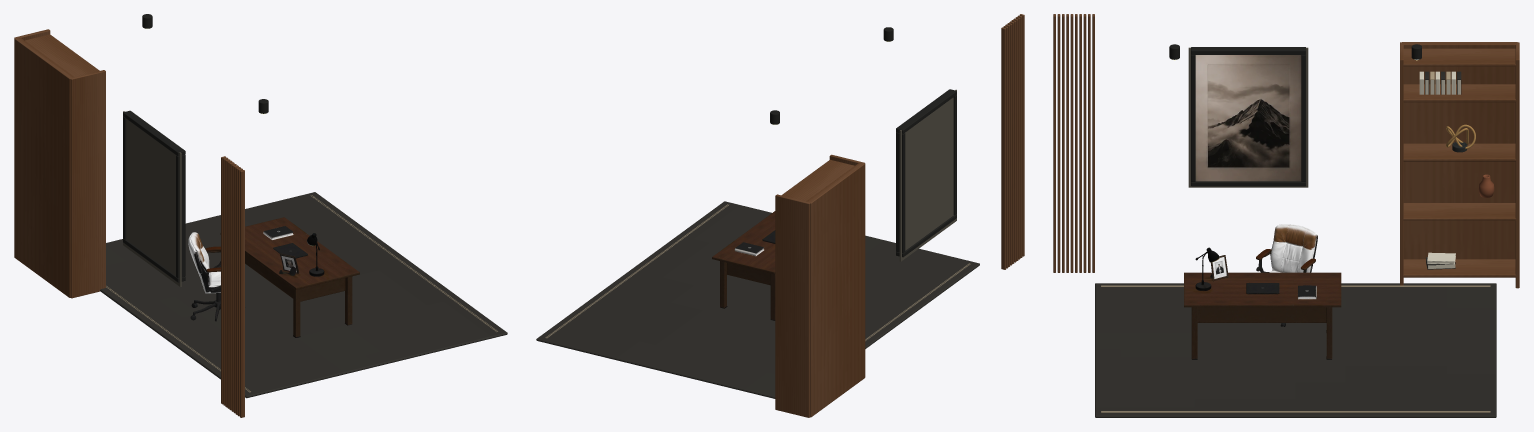
File: room-4.glb
The picture shows the model from 3 angles, left to right: view 1: azimuth 30°, elevation 25°; view 2: azimuth 150°, elevation 25°; view 3: azimuth 270°, elevation 25°; orthographic projection. The views are drawn at different scales.
Parts seen in each view (by area): view 1: STATIC_ROOM_05_STUDY_PBR_Woven_charcoal, STATIC_ROOM_05_STUDY_PBR_American_Walnut, STATIC_ROOM_05_STUDY_MESHY_PBR_Workplace, FRAME_05_STUDY_SHADOW, STATIC_ROOM_05_STUDY_PBR_Blackened_Steel, STATIC_ROOM_05_STUDY_PBR_Woven_oatmeal; view 2: STATIC_ROOM_05_STUDY_PBR_Woven_charcoal, STATIC_ROOM_05_STUDY_PBR_American_Walnut, FRAME_05_STUDY_SHADOW, STATIC_ROOM_05_STUDY_MESHY_PBR_Workplace, STATIC_ROOM_05_STUDY_PBR_Blackened_Steel, STATIC_ROOM_05_STUDY_PBR_Woven_oatmeal; view 3: STATIC_ROOM_05_STUDY_PBR_Woven_charcoal, STATIC_ROOM_05_STUDY_PBR_American_Walnut, ART_05_STUDY, STATIC_ROOM_05_STUDY_MESHY_PBR_Workplace, STATIC_ROOM_05_STUDY_PBR_Blackened_Steel, STATIC_ROOM_05_STUDY_PBR_Woven_oatmeal, FRAME_05_STUDY_SHADOW, STATIC_ROOM_05_STUDY_PBR_Warm_Paper, STATIC_ROOM_05_STUDY_PBR_Woven_ivory.
Part boxes in pixels (x1=…): STATIC_ROOM_05_STUDY_PBR_Woven_charcoal: x1=100, y1=192, x2=507, y2=398; STATIC_ROOM_05_STUDY_PBR_American_Walnut: x1=14, y1=29, x2=244, y2=417; STATIC_ROOM_05_STUDY_MESHY_PBR_Workplace: x1=188, y1=217, x2=359, y2=337; FRAME_05_STUDY_SHADOW: x1=123, y1=111, x2=181, y2=286; STATIC_ROOM_05_STUDY_PBR_Blackened_Steel: x1=123, y1=14, x2=268, y2=282; STATIC_ROOM_05_STUDY_PBR_Woven_oatmeal: x1=106, y1=195, x2=497, y2=392; STATIC_ROOM_05_STUDY_PBR_Woven_charcoal: x1=536, y1=201, x2=979, y2=398; STATIC_ROOM_05_STUDY_PBR_American_Walnut: x1=775, y1=14, x2=1024, y2=417; FRAME_05_STUDY_SHADOW: x1=899, y1=89, x2=956, y2=261; STATIC_ROOM_05_STUDY_MESHY_PBR_Workplace: x1=712, y1=211, x2=775, y2=320; STATIC_ROOM_05_STUDY_PBR_Blackened_Steel: x1=770, y1=27, x2=956, y2=257; STATIC_ROOM_05_STUDY_PBR_Woven_oatmeal: x1=545, y1=204, x2=970, y2=340; STATIC_ROOM_05_STUDY_PBR_Woven_charcoal: x1=1095, y1=71, x2=1496, y2=417; STATIC_ROOM_05_STUDY_PBR_American_Walnut: x1=1053, y1=14, x2=1519, y2=288; ART_05_STUDY: x1=1195, y1=55, x2=1301, y2=181; STATIC_ROOM_05_STUDY_MESHY_PBR_Workplace: x1=1184, y1=224, x2=1341, y2=359; STATIC_ROOM_05_STUDY_PBR_Blackened_Steel: x1=1169, y1=44, x2=1421, y2=186; STATIC_ROOM_05_STUDY_PBR_Woven_oatmeal: x1=1101, y1=71, x2=1490, y2=412; FRAME_05_STUDY_SHADOW: x1=1188, y1=47, x2=1308, y2=187; STATIC_ROOM_05_STUDY_PBR_Warm_Paper: x1=1420, y1=80, x2=1460, y2=268; STATIC_ROOM_05_STUDY_PBR_Woven_ivory: x1=1419, y1=71, x2=1455, y2=264.
Bounding box in the file's own units: 4.45 × 3.74 × 5.92.
Materials: 13 (7 with a texture image).
